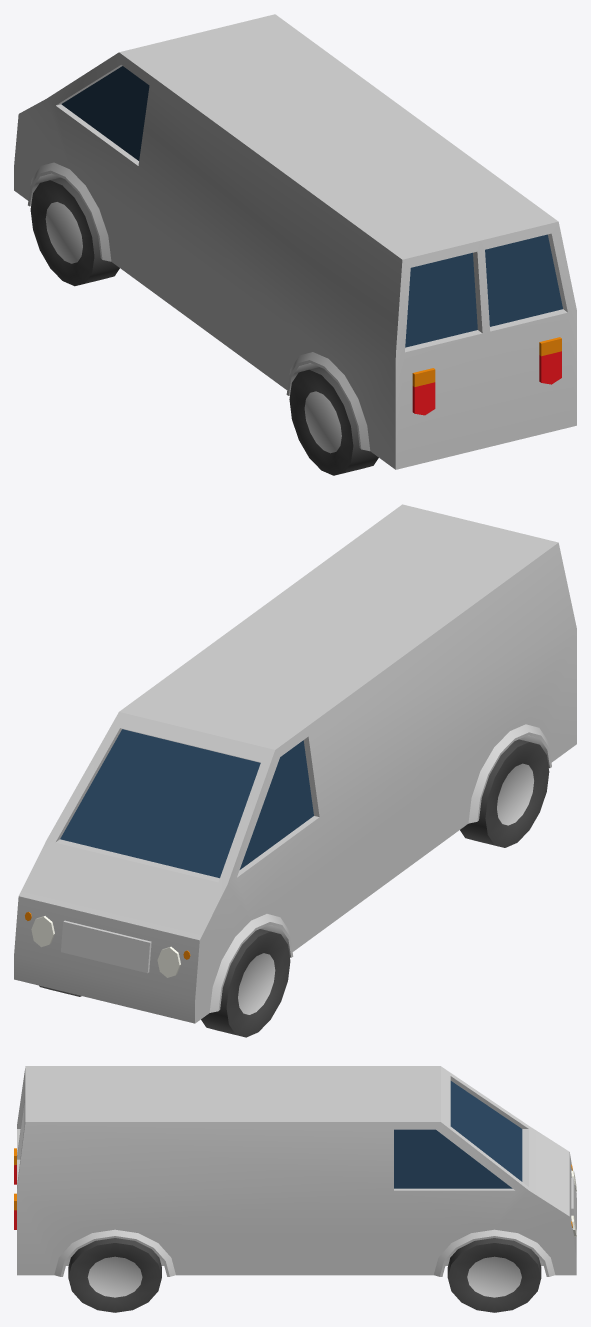
The model's file is trailer.glb.
3 views of the same model, one above another, from view 1: azimuth 30°, elevation 25°; view 2: azimuth 150°, elevation 25°; view 3: azimuth 270°, elevation 25° (orthographic). The views are drawn at different scales.
Parts seen in each view (by area): view 1: Trailer; view 2: Trailer; view 3: Trailer.
Part boxes in pixels (x1,y1,x2,y2): Trailer: (14, 14, 576, 475); Trailer: (14, 504, 576, 1037); Trailer: (14, 1066, 576, 1312).
Size of the model in its own units: 1.79 by 2.19 by 6.08.
